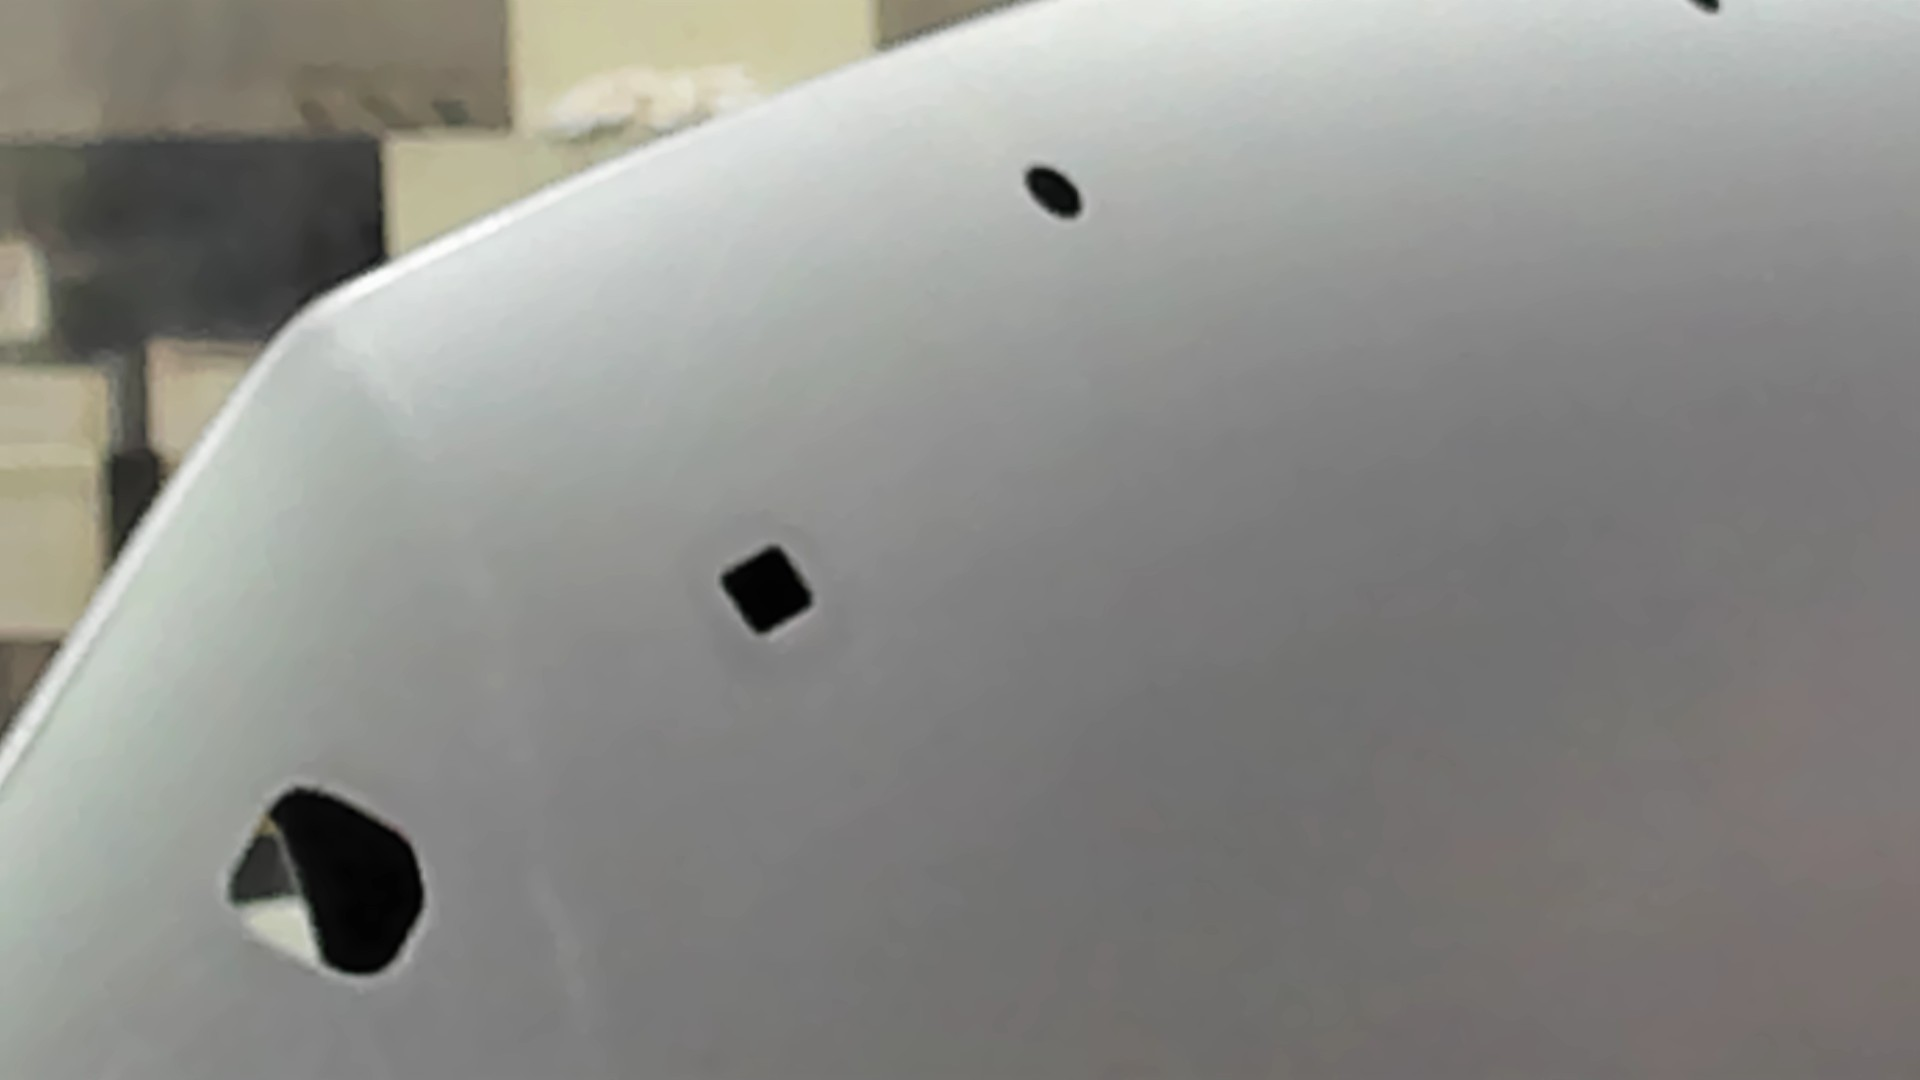chico: (1015, 158, 1092, 227), (1688, 1, 1729, 24)
grande: (219, 781, 434, 992)
mediano: (713, 538, 819, 641)
